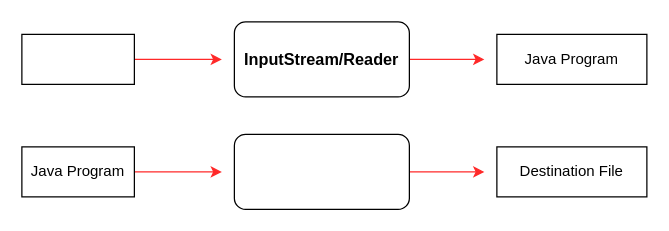
The diagram is 669 pixels wide and 231 high, and some of its shapes have lost their labels. The shapes that lost their labels are listed below. From the top down, each one's centre as x and y in pixels, then its label:
At point 77,58: "Source File".
At point 321,171: "OutputStream/Writer".
